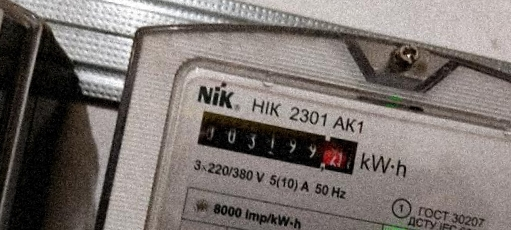0: (202, 121, 217, 141), (225, 124, 238, 144)
1: (267, 129, 277, 149)
3: (245, 130, 256, 150)
6: (327, 152, 339, 169)
9: (306, 141, 318, 160), (286, 135, 297, 154)
screen: (189, 105, 367, 182)
